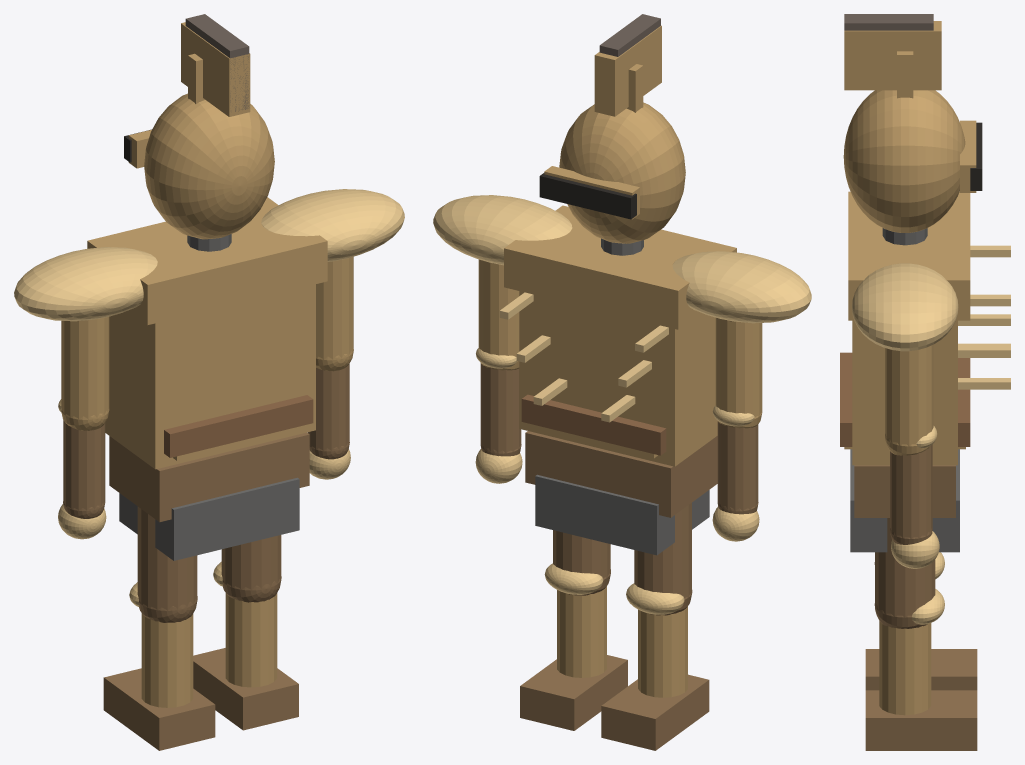
Rendered from player_backup.glb.
The picture shows the model from 3 angles, left to right: view 1: azimuth 30°, elevation 25°; view 2: azimuth 150°, elevation 25°; view 3: azimuth 270°, elevation 25°; orthographic projection. The views are drawn at different scales.
Parts seen in each view (by area): view 1: torso_chest, head_helmet, hips_pelvis, shoulder_L, chainmail_skirt, shoulder_R, upperarm_L, boot_L, boot_R, thigh_L, shin_R, shin_L (+8 smaller); view 2: torso_chest, head_helmet, hips_pelvis, shoulder_L, chainmail_skirt, shoulder_R, boot_L, boot_R, upperarm_L, shin_L, shin_R, waist_belt (+11 smaller); view 3: head_helmet, torso_chest, shoulder_R, boot_R, upperarm_R, shin_R, forearm_R, thigh_R, hips_pelvis, chainmail_skirt, boot_L, waist_belt (+10 smaller).
Boxes of the visible parts, x1=… form: torso_chest: x1=87, y1=197, x2=327, y2=469; head_helmet: x1=128, y1=22, x2=274, y2=239; hips_pelvis: x1=109, y1=432, x2=309, y2=522; shoulder_L: x1=14, y1=247, x2=157, y2=321; chainmail_skirt: x1=119, y1=477, x2=299, y2=560; shoulder_R: x1=261, y1=189, x2=404, y2=261; upperarm_L: x1=61, y1=317, x2=109, y2=430; boot_L: x1=103, y1=668, x2=215, y2=750; boot_R: x1=193, y1=648, x2=298, y2=730; thigh_L: x1=137, y1=506, x2=197, y2=622; shin_R: x1=225, y1=593, x2=277, y2=687; shin_L: x1=141, y1=613, x2=193, y2=707; torso_chest: x1=504, y1=205, x2=736, y2=466; head_helmet: x1=544, y1=25, x2=685, y2=243; hips_pelvis: x1=525, y1=431, x2=717, y2=517; shoulder_L: x1=672, y1=251, x2=811, y2=323; chainmail_skirt: x1=535, y1=474, x2=709, y2=555; shoulder_R: x1=433, y1=195, x2=572, y2=265; boot_L: x1=601, y1=674, x2=709, y2=750; boot_R: x1=520, y1=655, x2=627, y2=730; upperarm_L: x1=715, y1=317, x2=762, y2=428; shin_L: x1=638, y1=606, x2=687, y2=697; shin_R: x1=557, y1=586, x2=606, y2=677; waist_belt: x1=521, y1=394, x2=666, y2=455; head_helmet: x1=843, y1=21, x2=976, y2=232; torso_chest: x1=844, y1=191, x2=970, y2=465; shoulder_R: x1=852, y1=263, x2=958, y2=351; boot_R: x1=865, y1=690, x2=977, y2=750; upperarm_R: x1=885, y1=344, x2=933, y2=455; shin_R: x1=879, y1=621, x2=931, y2=715; forearm_R: x1=890, y1=444, x2=932, y2=544; thigh_R: x1=874, y1=518, x2=935, y2=628; hips_pelvis: x1=854, y1=465, x2=955, y2=517; chainmail_skirt: x1=850, y1=449, x2=959, y2=552; boot_L: x1=865, y1=649, x2=977, y2=690; waist_belt: x1=840, y1=352, x2=970, y2=446.
Bounding box in the file's own units: 2.18 × 3.79 × 0.84.
